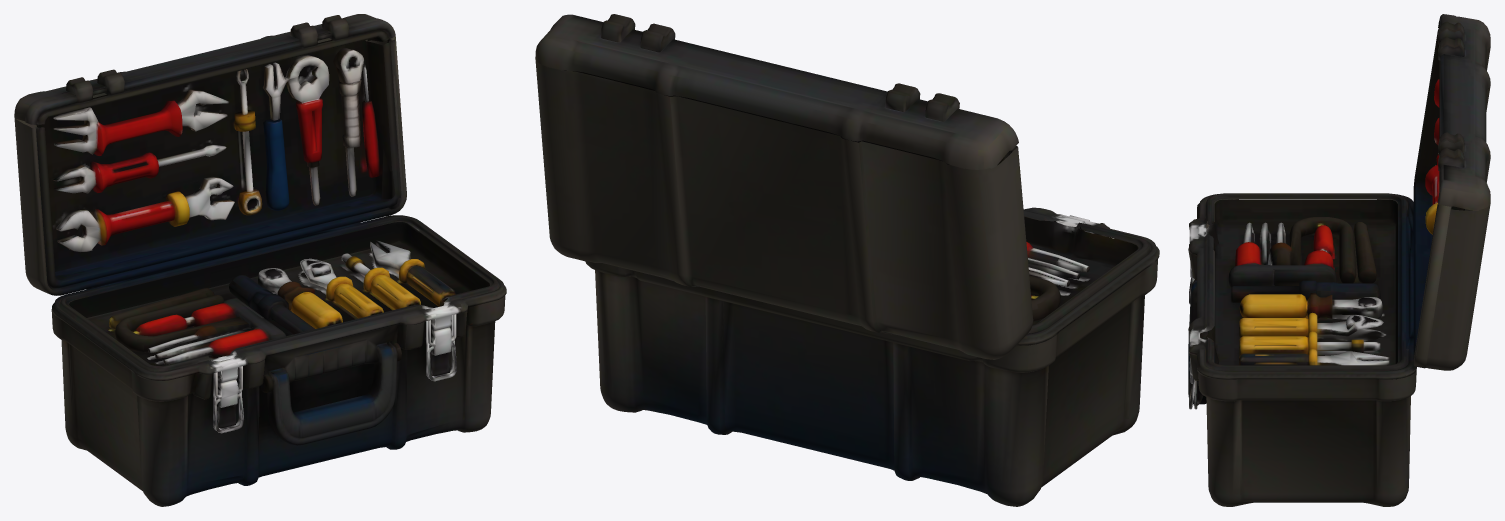
The model's file is ArmourToolBox1.glb.
3 views of the same model, side by side, from view 1: azimuth 30°, elevation 25°; view 2: azimuth 150°, elevation 25°; view 3: azimuth 270°, elevation 25° (orthographic). The views are drawn at different scales.
Parts seen in each view (by area): view 1: ArmourToolBox1; view 2: ArmourToolBox1; view 3: ArmourToolBox1.
Boxes of the visible parts, x1=… form: ArmourToolBox1: x1=14, y1=14, x2=506, y2=506; ArmourToolBox1: x1=535, y1=14, x2=1159, y2=506; ArmourToolBox1: x1=1188, y1=14, x2=1490, y2=506.
Size of the model in its own units: 1.9 by 1.67 by 1.34.
Materials: 1 (1 with a texture image).
